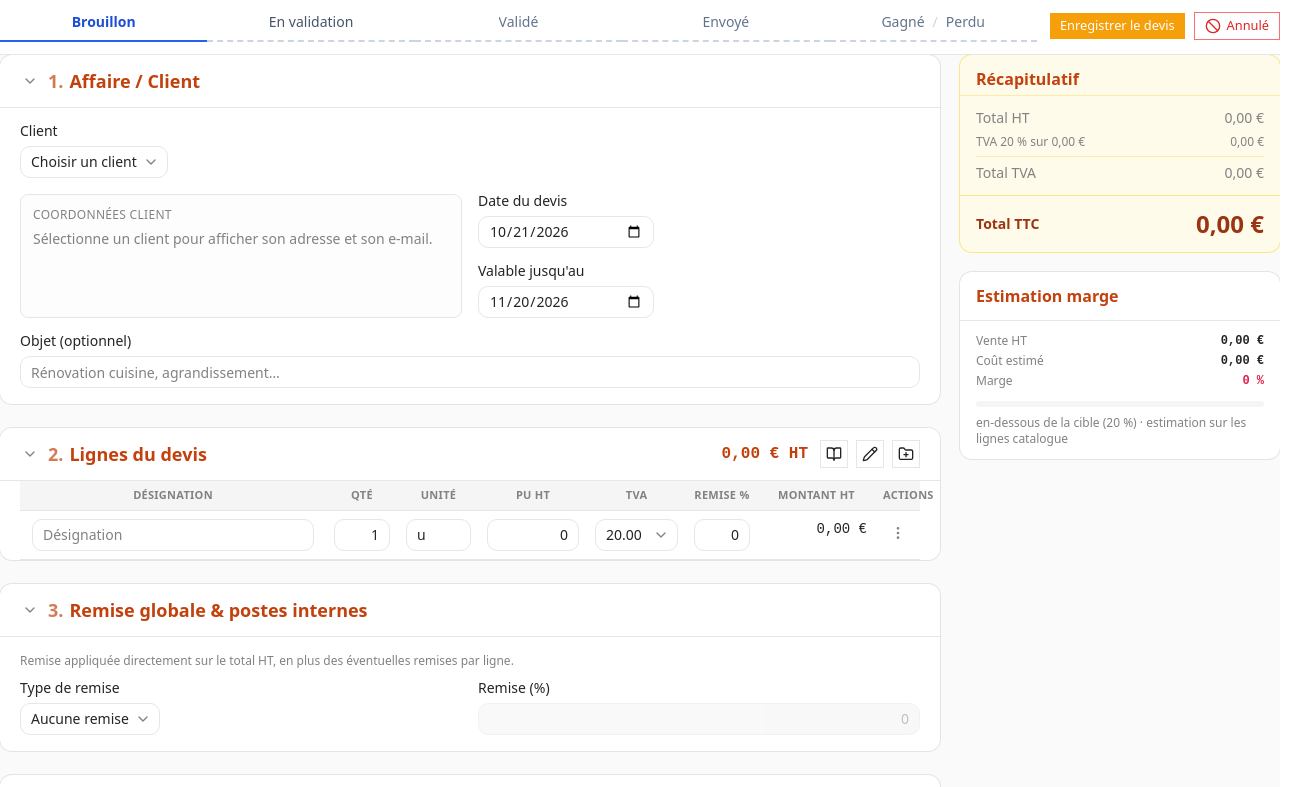
Test case: DevisEditor — toolbar de la section « Lignes du devis » dans l’en-tête › garde les menus visibles quand la section est repliée (ils sont dans l’en-tête, pas dans le corps)
Expected: the button named "Ajouter une section" is shown, x1=892 y1=440 x2=920 y2=468
Expected: the table is shown, x1=20 y1=481 x2=920 y2=560
// On replie la section via le bouton d'en-tête « 2. Lignes du devis ».
What coordinates should you click on to do the following:
click the button "2.Lignes du devis"
I would click on:
 (138, 454)
Its box is x1=20 y1=440 x2=706 y2=468.
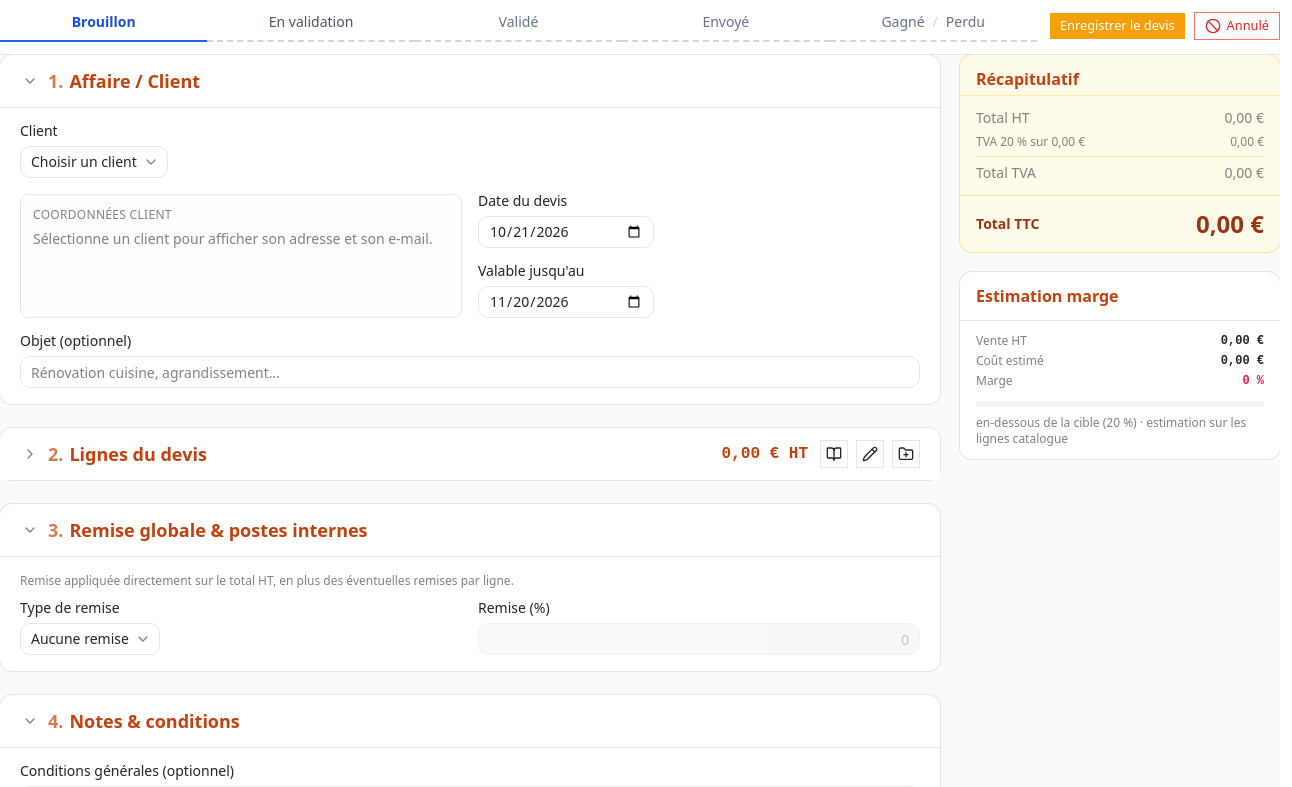
Expected: the button named "Ajouter une section" is shown, x1=892 y1=440 x2=920 y2=468
Result: the table is gone
